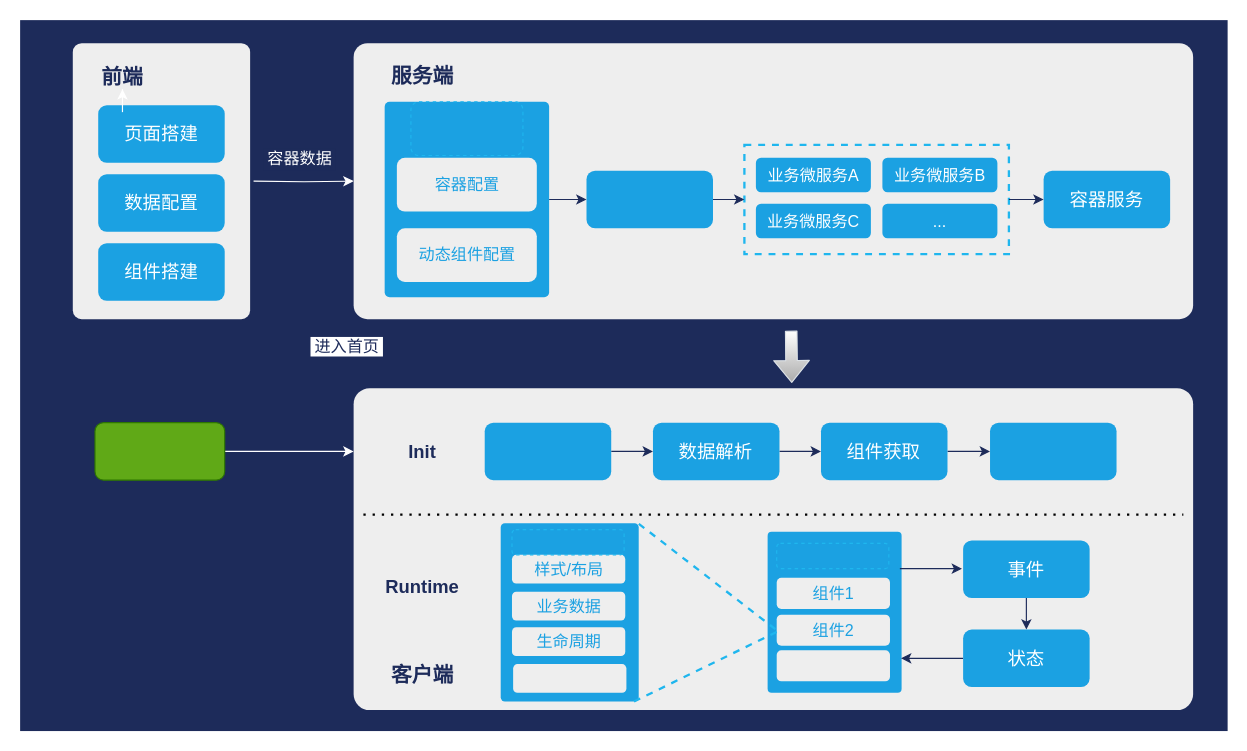
This 1247x751 diagram has some shape labels left out. Here are the shapes that lost their labels. From the top down, the centre of each, then its label:
At (466,128): "配置平台".
At (649,199): "策略中心".
At (159,450): "App启动".
At (547,451): "组件注册".
At (1052,451): "首屏渲染".
At (567,541): "组件".
At (832,555): "容器".
At (569,678): "事件监听".
At (832,665): "组件3".
